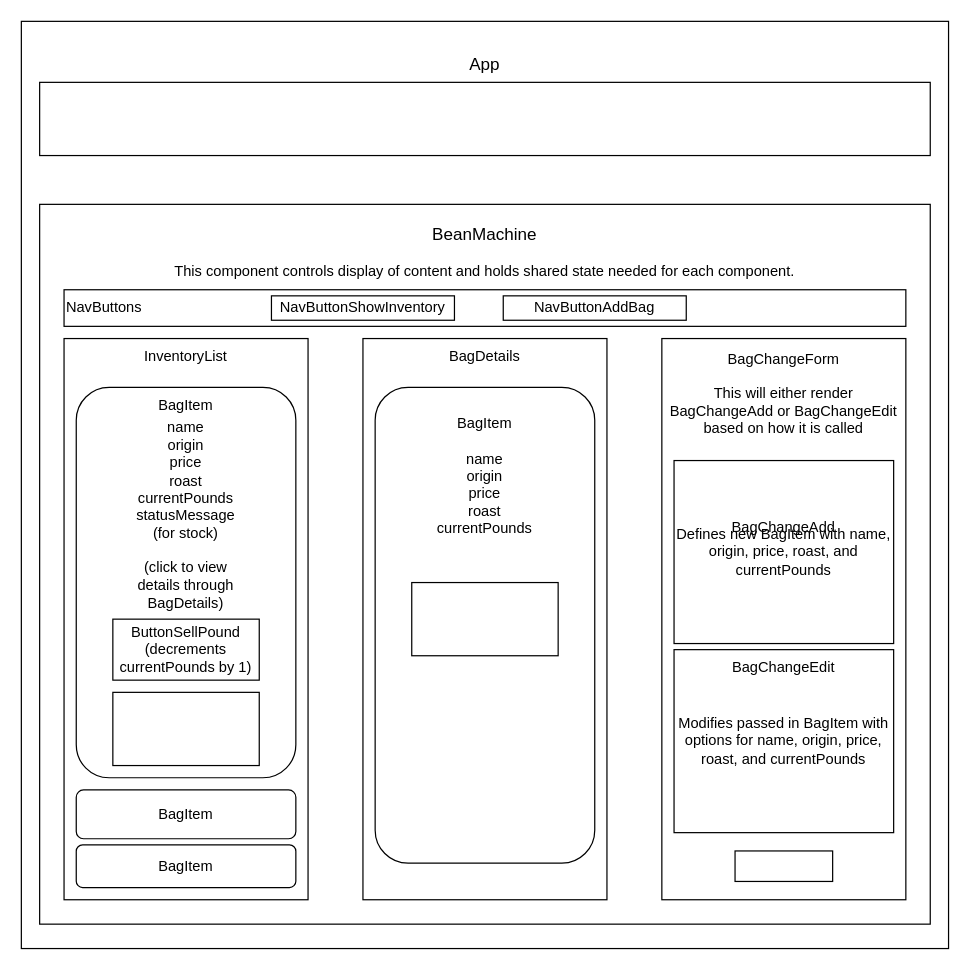
The diagram is 970 pixels wide and 970 high, and some of its shapes have lost their labels. The shapes that lost their labels are listed below. From the top down, each one's centre as x and y in pixels, then its label:
At (x=484, y=118): "Header".
At (x=484, y=618): "ButtonDeleteBag (this removes the BagItem and returns to InventoryList)".
At (x=185, y=728): "ButtonEditBag (this calls BagChangeForm)".
At (x=783, y=865): "Submit".
